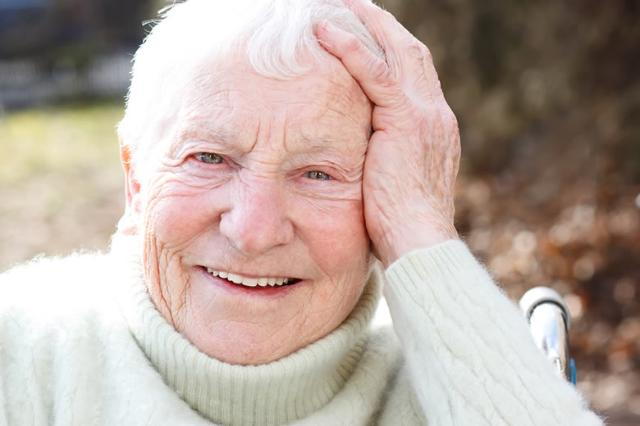bunny_line: (233, 170, 251, 192)
crows_feet: (160, 156, 182, 180), (342, 166, 356, 188)
forehead: (290, 94, 350, 116), (207, 84, 233, 111)
frown_line: (246, 122, 266, 156), (246, 157, 280, 173), (280, 125, 290, 152)
gummy_smile: (318, 258, 334, 282)
masseter: (142, 236, 172, 302)
sad_smile: (177, 278, 193, 318)
